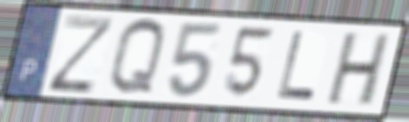5: (165, 22, 226, 101), (220, 23, 278, 102)
H: (323, 32, 394, 110)
L: (274, 29, 319, 103)
Q: (106, 16, 168, 99)
Z: (44, 13, 119, 96)
